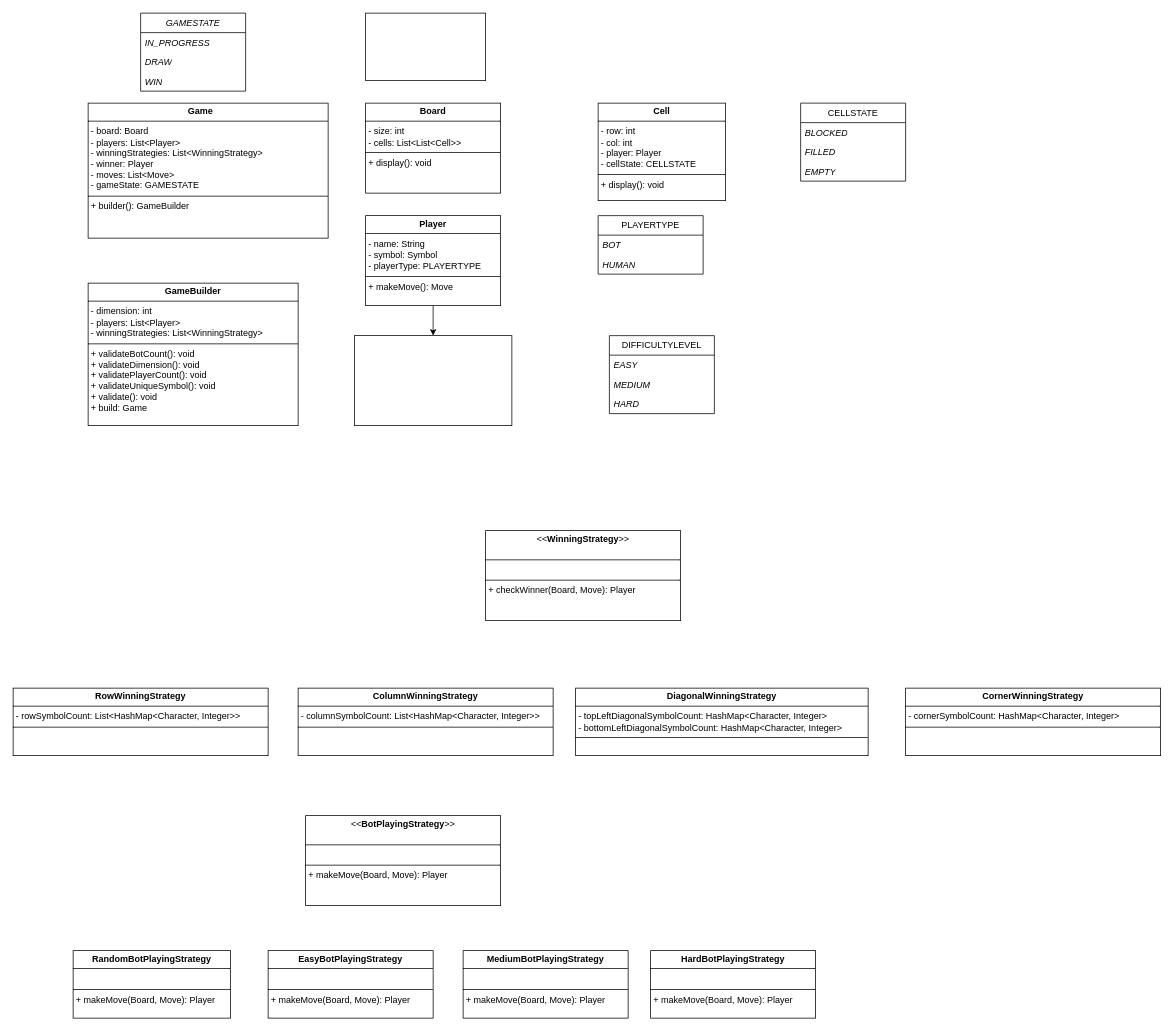
Image size: 1174x1031. Some labels were removed from this diagram. The centre of each missing label's shape, as x and y in pixels:
"Bot - difficultyLevel: DIFFICULTYLEVEL" goes at (433,380).
"Move - cell: Cell - player: Player" goes at (425,46).
